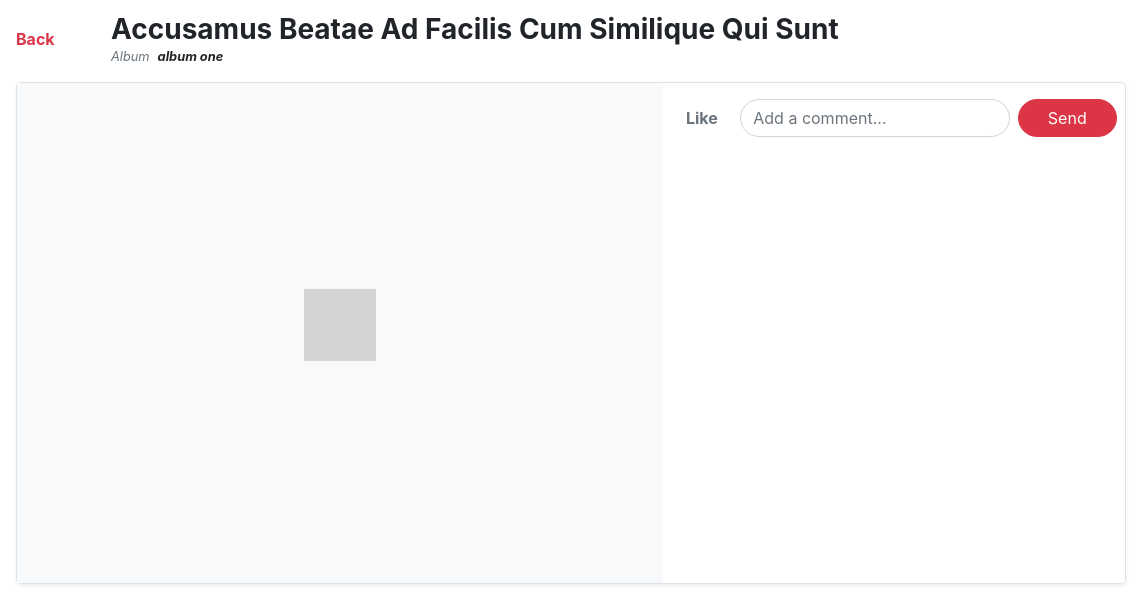
Test: comment feature / photo detail › delete comment
Type "test comment" into the field with placeholder "Add a comment..." at point(875, 118), box [740, 99, 1010, 137]
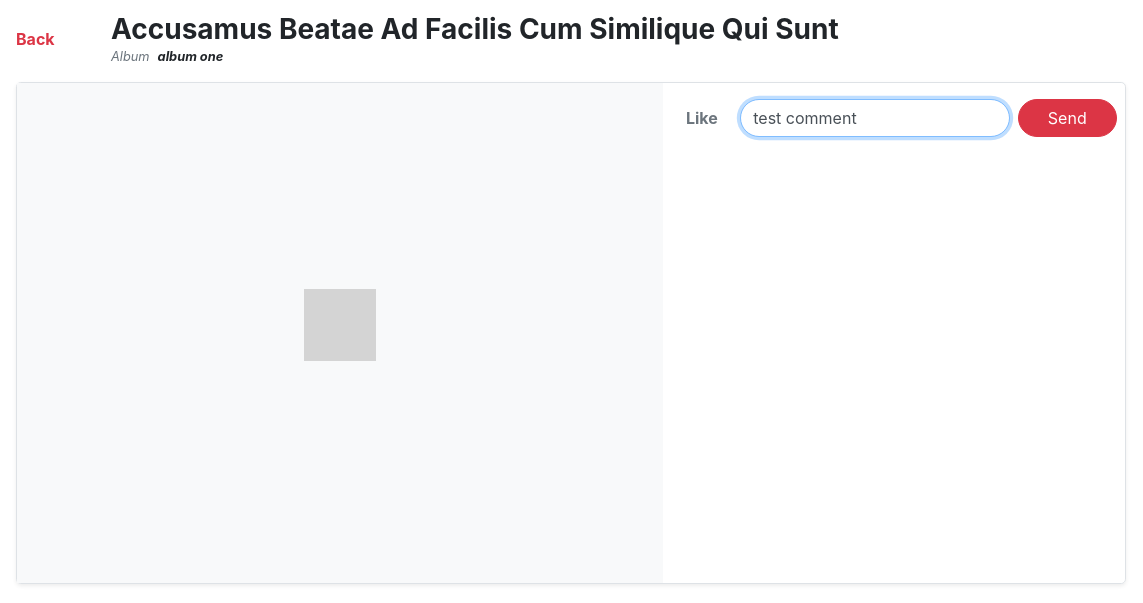
Click the button "Send" at point(1067, 118), box [1018, 99, 1117, 137]
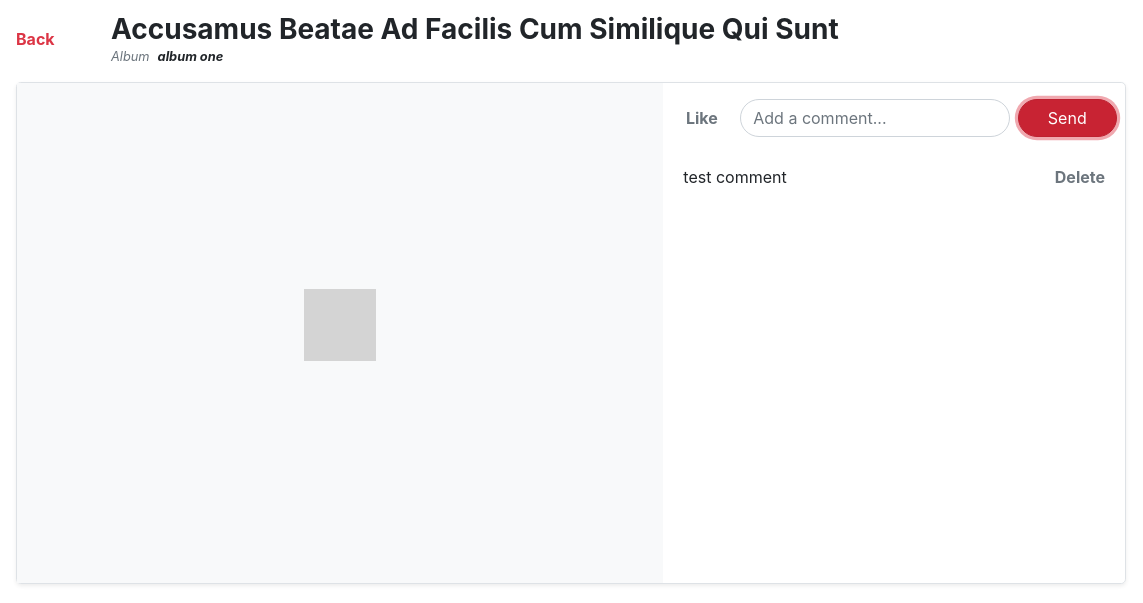
Click the button "Delete" at point(1080, 177), box [1055, 165, 1105, 189]
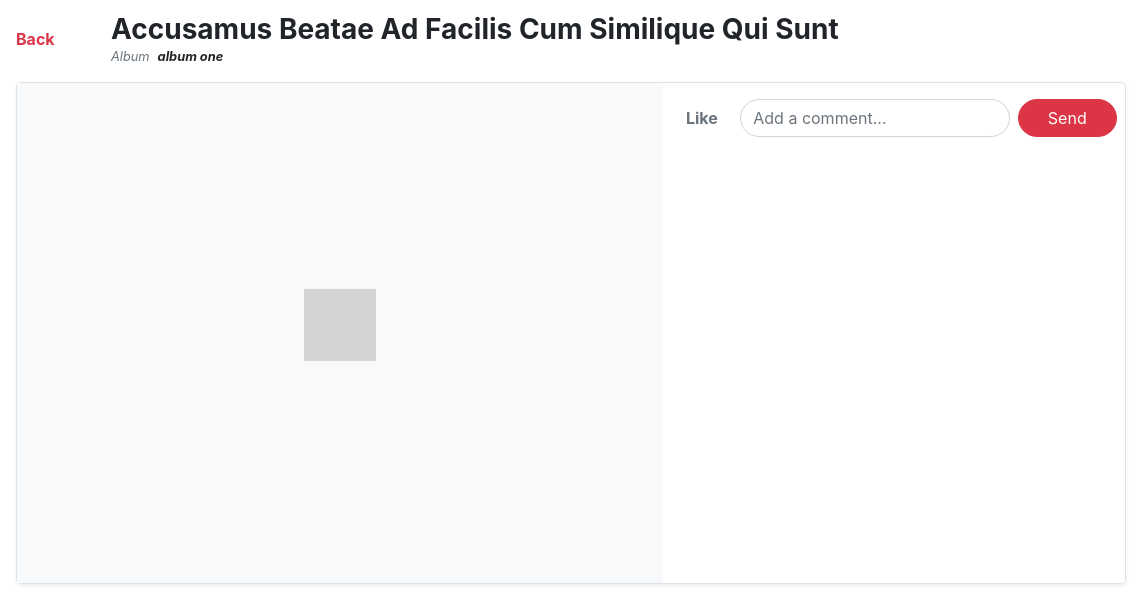
Now the text "test comment" is gone
Now the button "Delete" is gone
